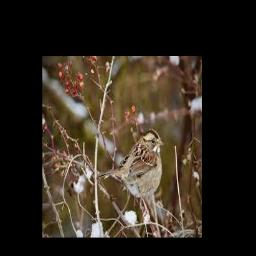Sparrow: (97, 129, 165, 208)
